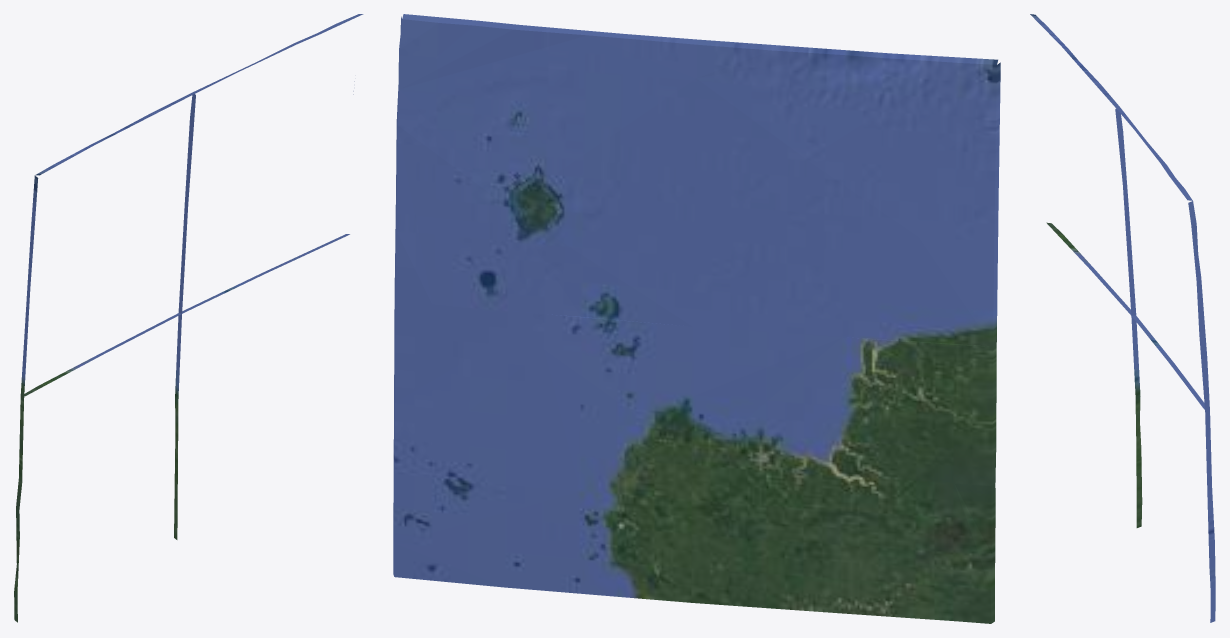
3 views of the same model, side by side, from view 1: azimuth 30°, elevation 25°; view 2: azimuth 150°, elevation 25°; view 3: azimuth 270°, elevation 25° (orthographic). The views are drawn at different scales.
Bounding box in the file's own units: 604944 × 628190 × 249108.
1 material, 1 textured.
